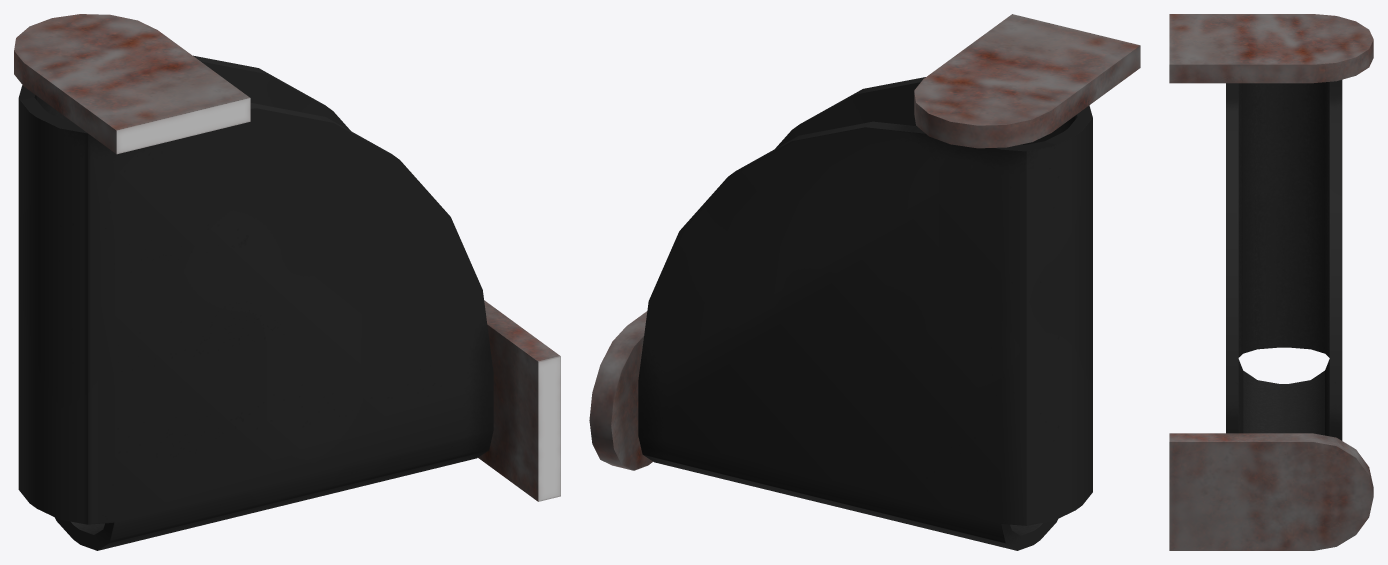
The model's file is _raad3.001.fbx.
3 renders of one model, left to right at view 1: azimuth 30°, elevation 25°; view 2: azimuth 150°, elevation 25°; view 3: azimuth 270°, elevation 25°, orthographic. The views are drawn at different scales.
Visible parts, largest first — view 1: Road3.002; view 2: Road3.002; view 3: Road3.002.
Part boxes in pixels (x1=…): Road3.002: x1=14, y1=14, x2=560, y2=550; Road3.002: x1=589, y1=14, x2=1140, y2=550; Road3.002: x1=1169, y1=14, x2=1373, y2=550.
Size of the model in its own units: 9712 by 9695 by 4876.
